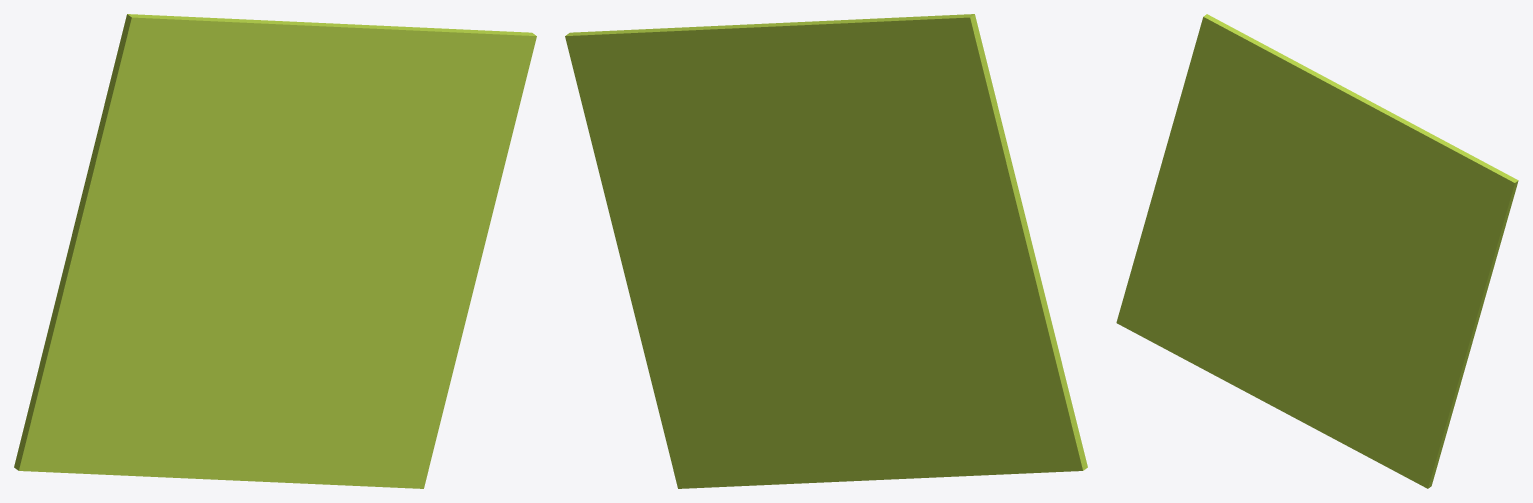
3 views of the same model, side by side, from view 1: azimuth 30°, elevation 25°; view 2: azimuth 150°, elevation 25°; view 3: azimuth 330°, elevation 25° (orthographic). The views are drawn at different scales.
Visible parts, largest first — view 1: osm-way27917482-F1; view 2: osm-way27917482-F1; view 3: osm-way27917482-F1.
Boxes of the visible parts, left/top/right/bottom form: osm-way27917482-F1: left=14, top=14, right=536, bottom=488; osm-way27917482-F1: left=565, top=14, right=1087, bottom=488; osm-way27917482-F1: left=1116, top=14, right=1518, bottom=488.
Bounding box in the file's own units: 9.29 × 9.3 × 0.15.
